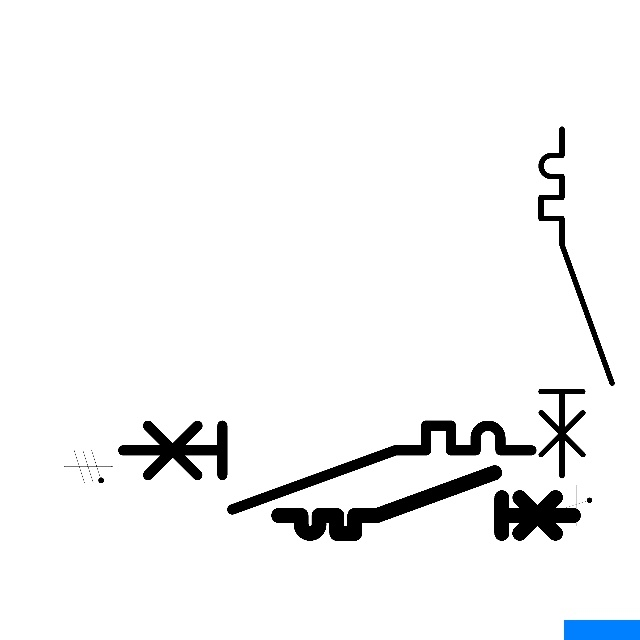interruptor_termomagnetico: (112, 415, 542, 520), (532, 120, 621, 485), (271, 465, 581, 541)
